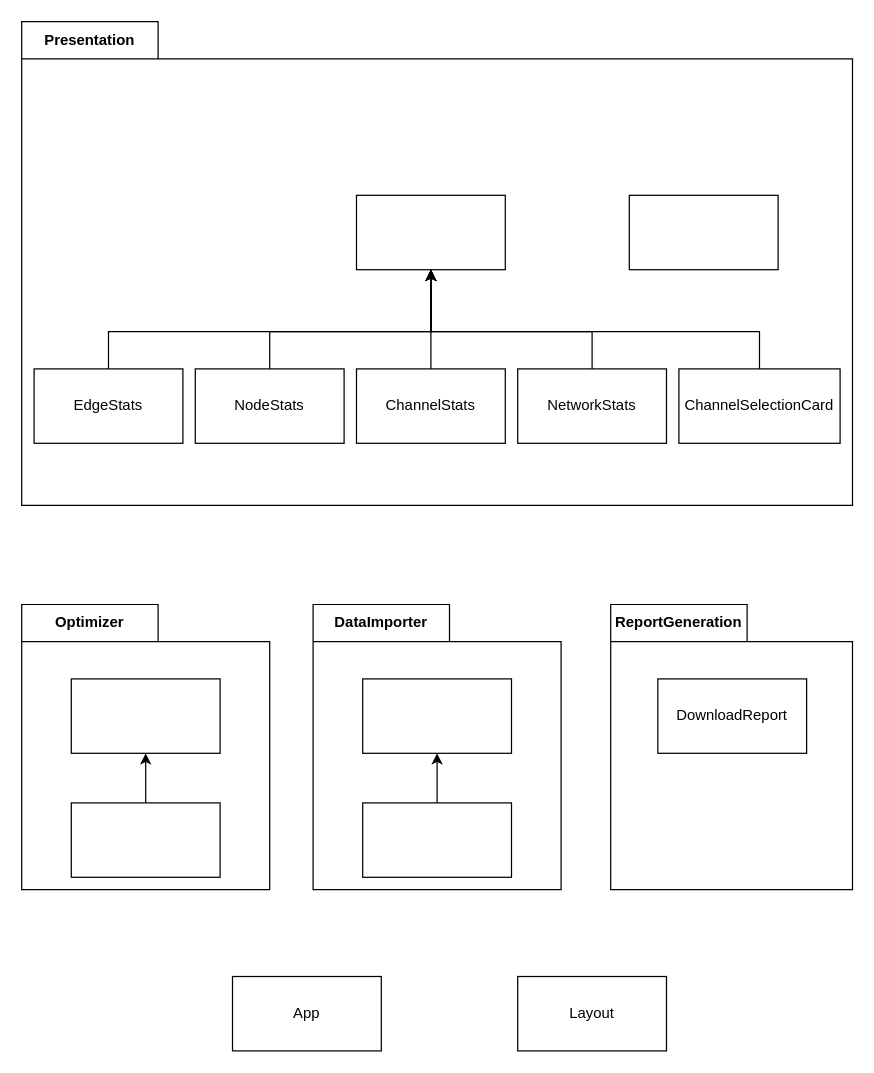
Image size: 874x1073. Some labels were removed from this diagram. The shapes that lost their labels are listed below. From the top down, each one's centre as x and y in pixels, then its label:
At (x=430, y=232): "StatsPage".
At (x=703, y=232): "GraphVisualisation".
At (x=145, y=715): "OptimizerPage".
At (x=436, y=715): "DataImporterPage".
At (x=145, y=839): "OptimizerForm".
At (x=436, y=839): "CsvUpload".
